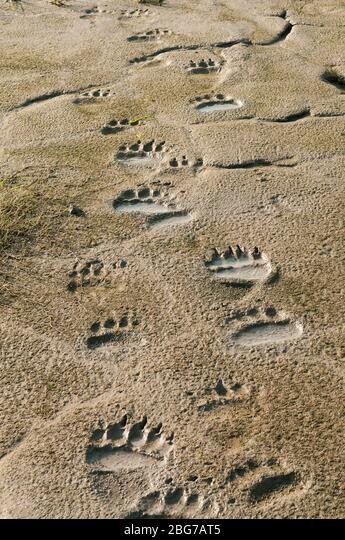bear: (92, 408, 177, 475), (73, 306, 162, 362), (219, 305, 307, 352), (69, 248, 138, 307), (201, 246, 279, 286), (119, 181, 177, 225), (189, 91, 250, 116)
